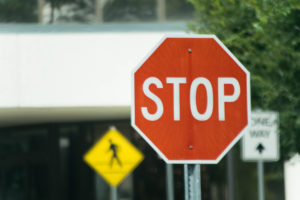Stop: (129, 32, 252, 165)
